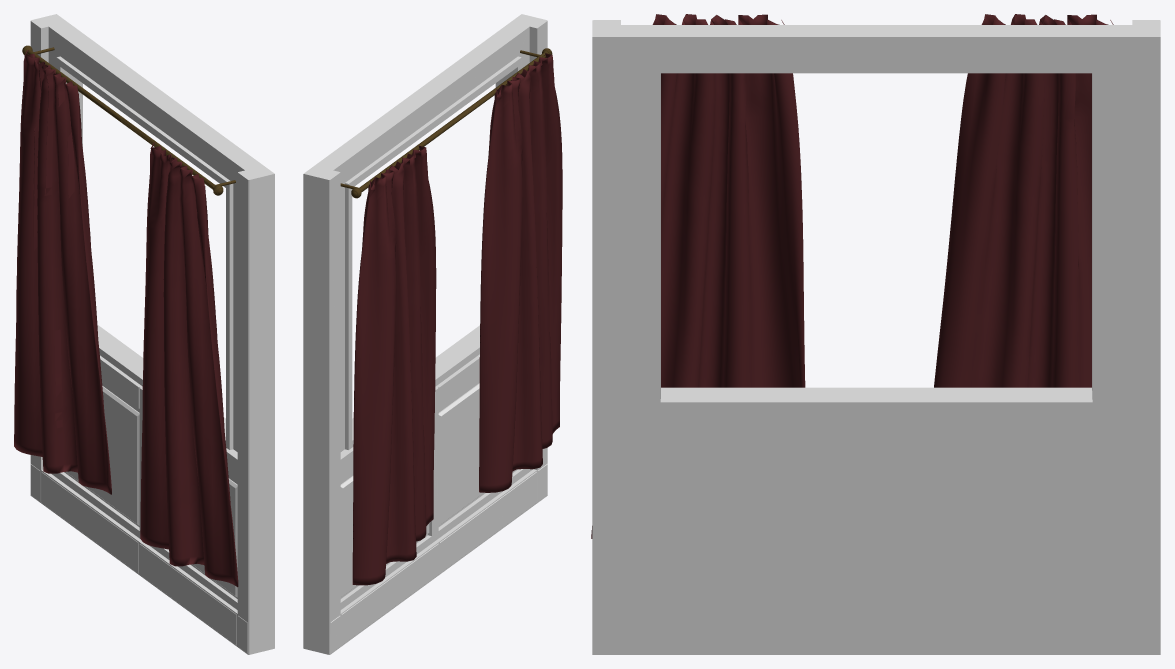
Rendered from Wall_Window 3.fbx.
3 views of the same model, side by side, from view 1: azimuth 30°, elevation 25°; view 2: azimuth 150°, elevation 25°; view 3: azimuth 270°, elevation 25° (orthographic). The views are drawn at different scales.
Parts seen in each view (by area): view 1: Wall_Window 3; view 2: Wall_Window 3; view 3: Wall_Window 3.
Boxes of the visible parts, x1=… form: Wall_Window 3: x1=14, y1=14, x2=274, y2=654; Wall_Window 3: x1=303, y1=14, x2=562, y2=654; Wall_Window 3: x1=591, y1=14, x2=1160, y2=654.
Size of the model in its own units: 33.69 by 240 by 200.
